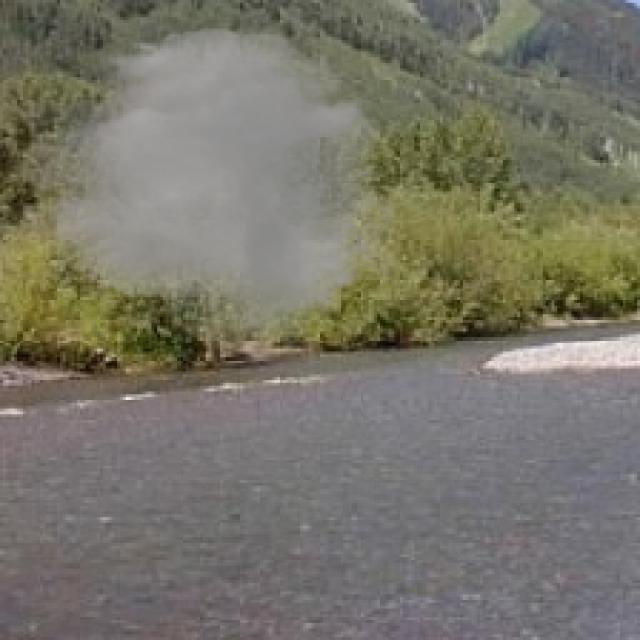smoke: (0, 20, 415, 366)
